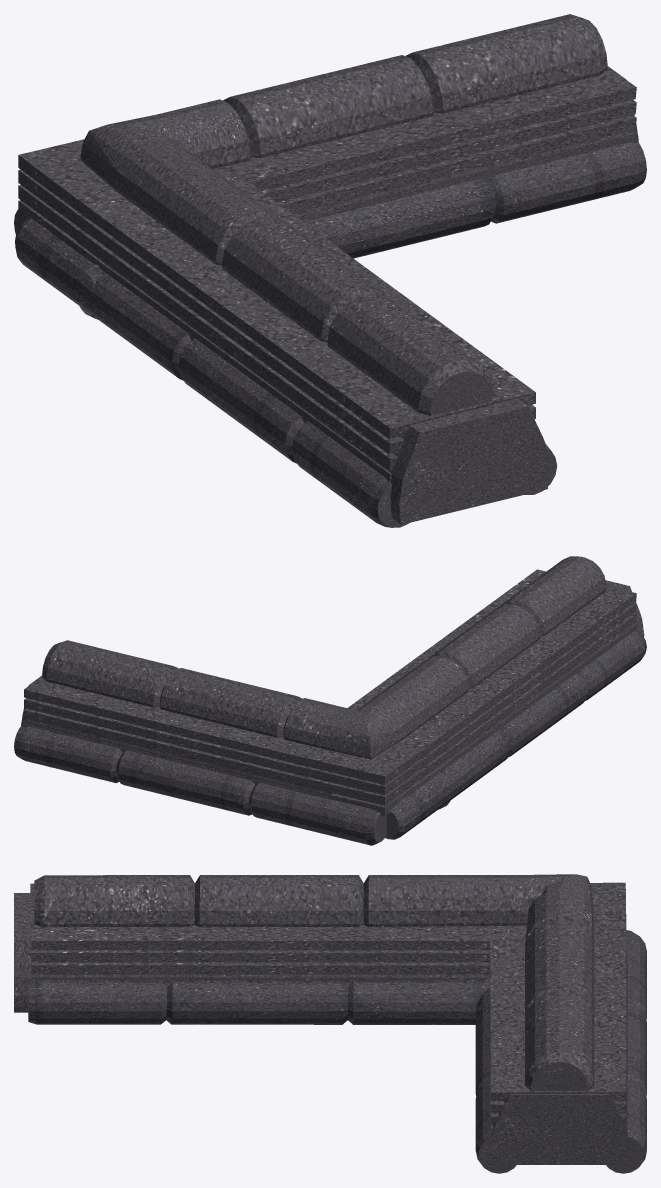
Rendered from SM_R_CornerRoof.fbx.
The picture shows the model from 3 angles, top to bottom: view 1: azimuth 30°, elevation 25°; view 2: azimuth 150°, elevation 25°; view 3: azimuth 270°, elevation 25°; orthographic projection. The views are drawn at different scales.
Visible parts, largest first — view 1: SM_R_CornerRoof; view 2: SM_R_CornerRoof; view 3: SM_R_CornerRoof.
Boxes of the visible parts, x1,y1,x2,y2 form: SM_R_CornerRoof: (14, 14, 646, 527); SM_R_CornerRoof: (14, 556, 646, 845); SM_R_CornerRoof: (14, 874, 646, 1173).
Size of the model in its own units: 158 by 195 by 40.04.
1 material, 1 textured.
